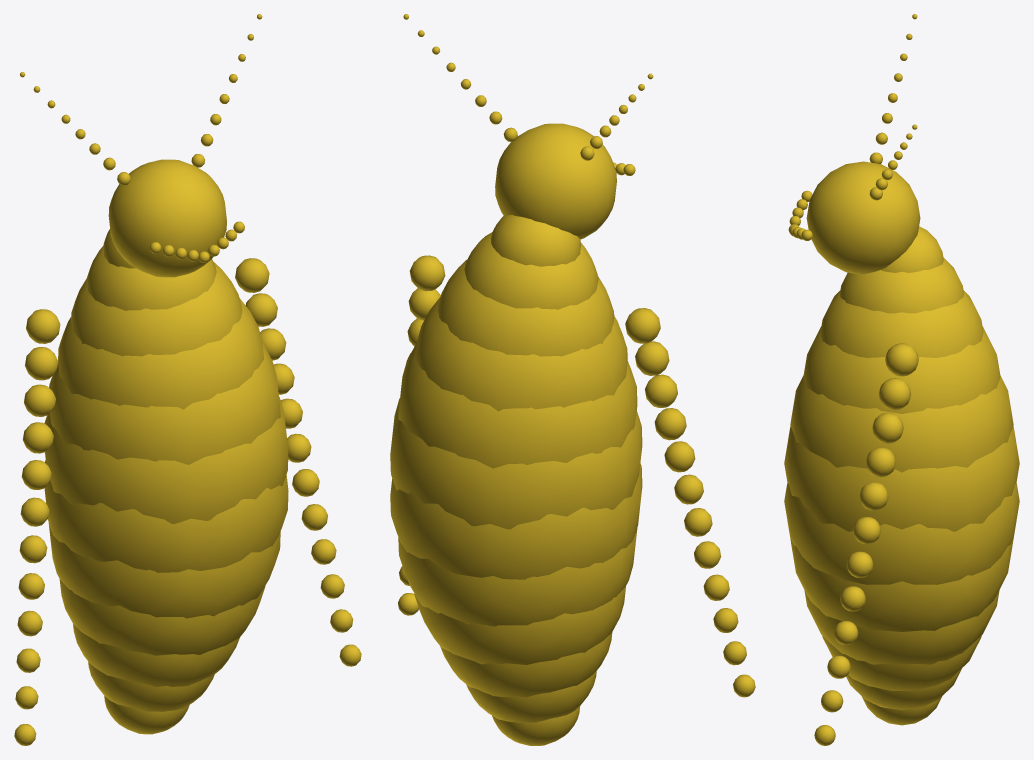
Rendered from Partygoer_Wendigo_Apex.obj.
3 views of the same model, side by side, from view 1: azimuth 30°, elevation 25°; view 2: azimuth 150°, elevation 25°; view 3: azimuth 270°, elevation 25° (orthographic). The views are drawn at different scales.
Visible parts, largest first — view 1: Partygoer_Wendigo_Apex; view 2: Partygoer_Wendigo_Apex; view 3: Partygoer_Wendigo_Apex.
Boxes of the visible parts, x1,y1,x2,y2 form: Partygoer_Wendigo_Apex: (14,14,361,745); Partygoer_Wendigo_Apex: (390,14,755,745); Partygoer_Wendigo_Apex: (784,14,1019,745).
Bounding box in the file's own units: 1.48 × 2.81 × 0.9188.
